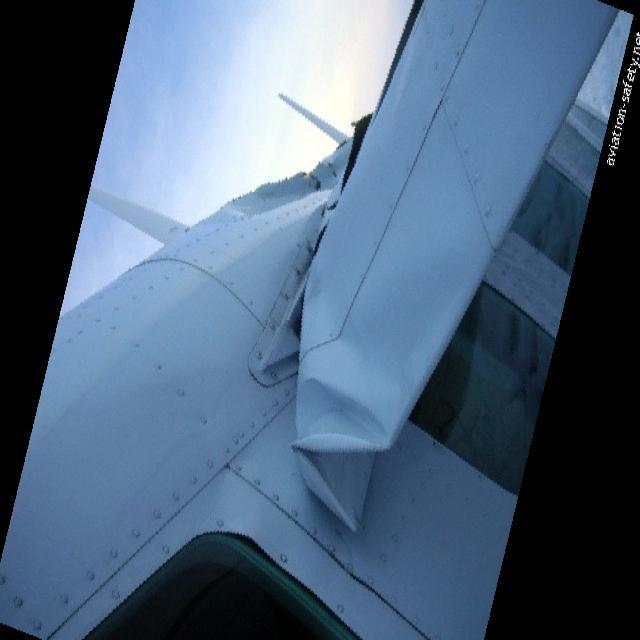dent: (285, 369, 396, 538)
